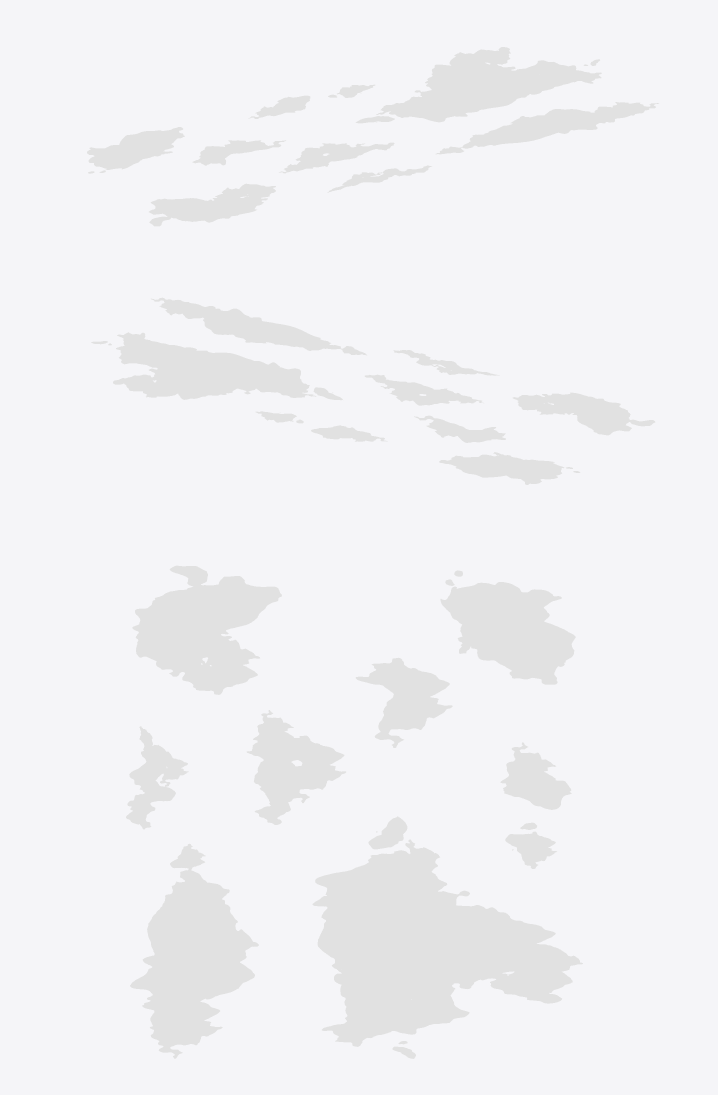
The model's file is clouds.fbx.
3 views of the same model, one above another, from view 1: azimuth 30°, elevation 25°; view 2: azimuth 150°, elevation 25°; view 3: azimuth 270°, elevation 25° (orthographic). The views are drawn at different scales.
Visible parts, largest first — view 1: cloud03, cloud02, cloud08, cloud05, cloud07, cloud06, cloud04, cloud01; view 2: cloud03, cloud02, cloud08, cloud05, cloud07, cloud06, cloud04, cloud01; view 3: cloud03, cloud02, cloud08, cloud05, cloud07, cloud06, cloud04, cloud01.
Part boxes in pixels (<box>): cloud03: <box>355,47,601,123</box>; cloud02: <box>435,102,658,154</box>; cloud08: <box>149,183,275,226</box>; cloud05: <box>87,127,184,173</box>; cloud07: <box>279,142,394,173</box>; cloud06: <box>192,140,285,165</box>; cloud04: <box>248,84,375,118</box>; cloud01: <box>327,165,431,192</box>; cloud03: <box>91,332,342,400</box>; cloud02: <box>151,297,366,355</box>; cloud08: <box>512,392,655,435</box>; cloud05: <box>439,452,580,484</box>; cloud07: <box>364,374,483,405</box>; cloud06: <box>414,415,505,442</box>; cloud04: <box>255,411,387,441</box>; cloud01: <box>393,350,499,375</box>; cloud03: <box>312,816,582,1058</box>; cloud02: <box>130,843,258,1058</box>; cloud08: <box>132,565,281,694</box>; cloud05: <box>440,570,575,684</box>; cloud07: <box>246,710,345,824</box>; cloud06: <box>355,657,452,747</box>; cloud04: <box>500,742,571,868</box>; cloud01: <box>126,726,188,829</box>.
Size of the model in its own units: 2458 by 4.16e-14 by 1045.
